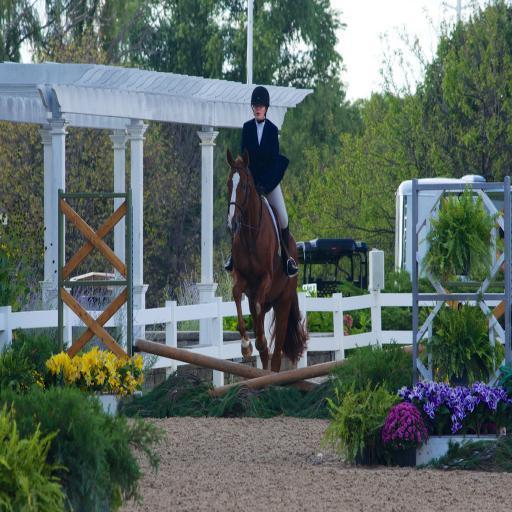horse: (226, 147, 310, 373)
